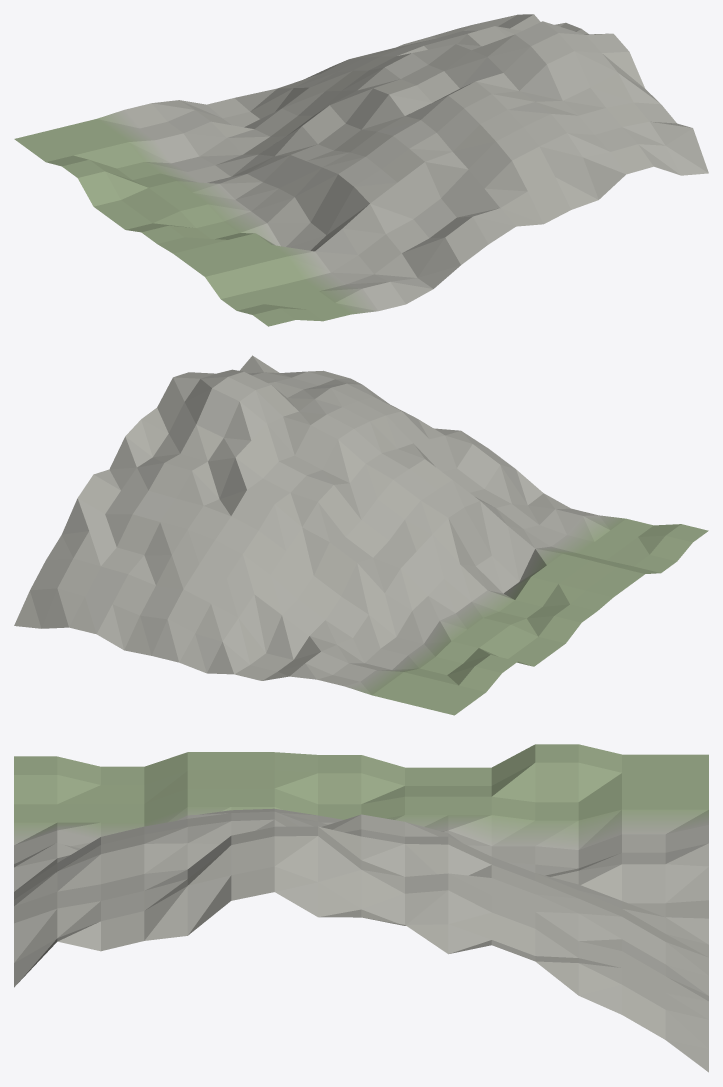
3 renders of one model, top to bottom at view 1: azimuth 30°, elevation 25°; view 2: azimuth 150°, elevation 25°; view 3: azimuth 270°, elevation 25°, orthographic. The views are drawn at different scales.
Bounding box in the file's own units: 32 × 10.39 × 32.
